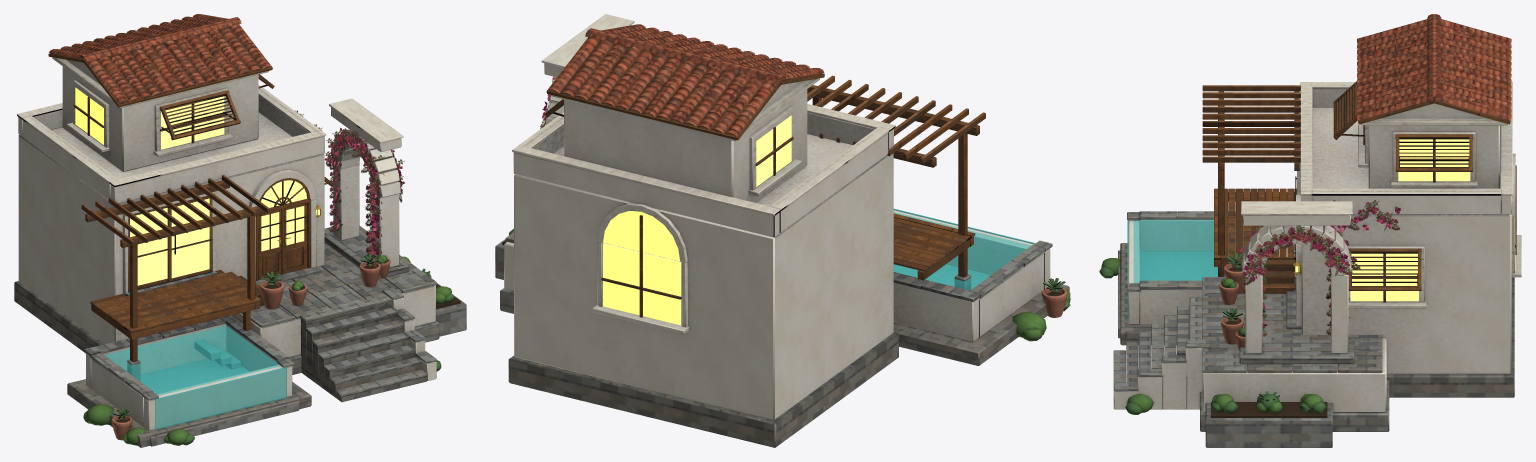
File: farmhouse_south_bay_villa.glb
3 views of the same model, side by side, from view 1: azimuth 30°, elevation 25°; view 2: azimuth 150°, elevation 25°; view 3: azimuth 270°, elevation 25° (orthographic). The views are drawn at different scales.
Visible parts, largest first — view 1: VillaPlaster, VillaWood, VillaStone, InfinityPoolWater, VillaTerracottaRoof, WindowGlassGlow, VillaPotsShrubs, BougainvilleaVines, VillaFlora3D; view 2: VillaPlaster, VillaWood, VillaStone, VillaTerracottaRoof, WindowGlassGlow, InfinityPoolWater, VillaPotsShrubs; view 3: VillaPlaster, VillaWood, VillaStone, VillaTerracottaRoof, InfinityPoolWater, VillaPotsShrubs, WindowGlassGlow, BougainvilleaVines, VillaFlora3D.
Boxes of the visible parts, x1,y1,x2,y2 form: VillaPlaster: (18,59,436,430); VillaWood: (17,26,403,361); VillaStone: (14,226,466,447); InfinityPoolWater: (104,325,286,429); VillaTerracottaRoof: (49,14,271,104); WindowGlassGlow: (75,87,320,285); VillaPotsShrubs: (83,205,460,445); BougainvilleaVines: (295,110,404,259); VillaFlora3D: (330,129,402,260); VillaPlaster: (504,63,1050,420); VillaWood: (512,14,985,334); VillaStone: (495,232,1069,447); VillaTerracottaRoof: (547,24,824,136); WindowGlassGlow: (603,115,791,325); InfinityPoolWater: (893,208,1035,290); VillaPotsShrubs: (502,229,1070,341); VillaPlaster: (1113,88,1511,412); VillaWood: (1202,81,1521,308); VillaStone: (1113,211,1514,447); VillaTerracottaRoof: (1357,14,1511,120); InfinityPoolWater: (1127,219,1250,321); VillaPotsShrubs: (1099,176,1327,417); WindowGlassGlow: (1295,139,1515,301); BougainvilleaVines: (1237,200,1399,336); VillaFlora3D: (1244,206,1400,330).
Bounding box in the file's own units: 10.36 × 6.92 × 9.15.
6 materials, 4 textured.
